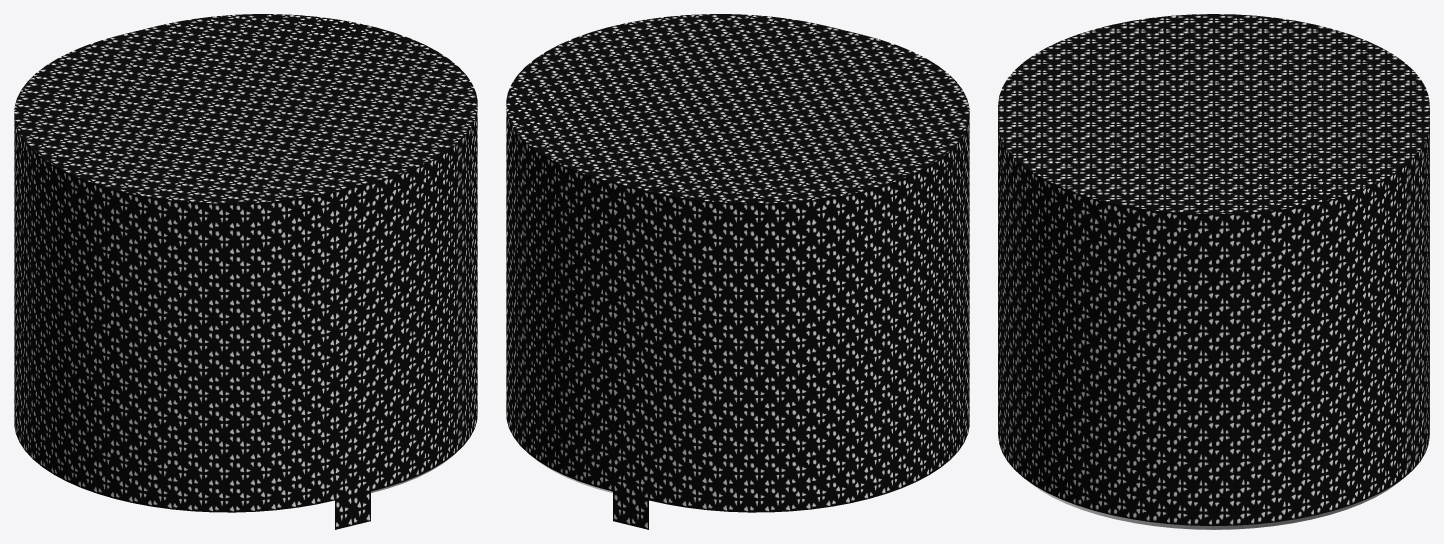
File: Level.Esquadro.fbx
3 renders of one model, left to right at view 1: azimuth 30°, elevation 25°; view 2: azimuth 150°, elevation 25°; view 3: azimuth 270°, elevation 25°, orthographic.
Visible parts, largest first — view 1: Wall.006; view 2: Wall.006; view 3: Wall.006, Esquadro.
Boxes of the visible parts, x1,y1,x2,y2 form: Wall.006: (14,14,477,529); Wall.006: (506,14,969,529); Wall.006: (998,14,1429,525); Esquadro: (1026,480,1401,529).
Size of the model in its own units: 3441 by 2739 by 3136.
